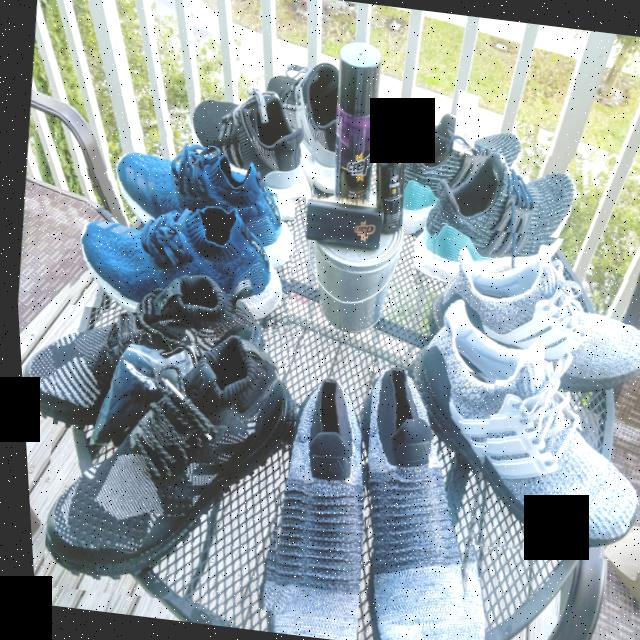shoe: (22, 308, 312, 616), (378, 298, 640, 566), (335, 355, 504, 640), (414, 222, 640, 408), (51, 165, 300, 331), (247, 350, 381, 640), (94, 122, 315, 266), (401, 140, 590, 305), (178, 73, 324, 198)
